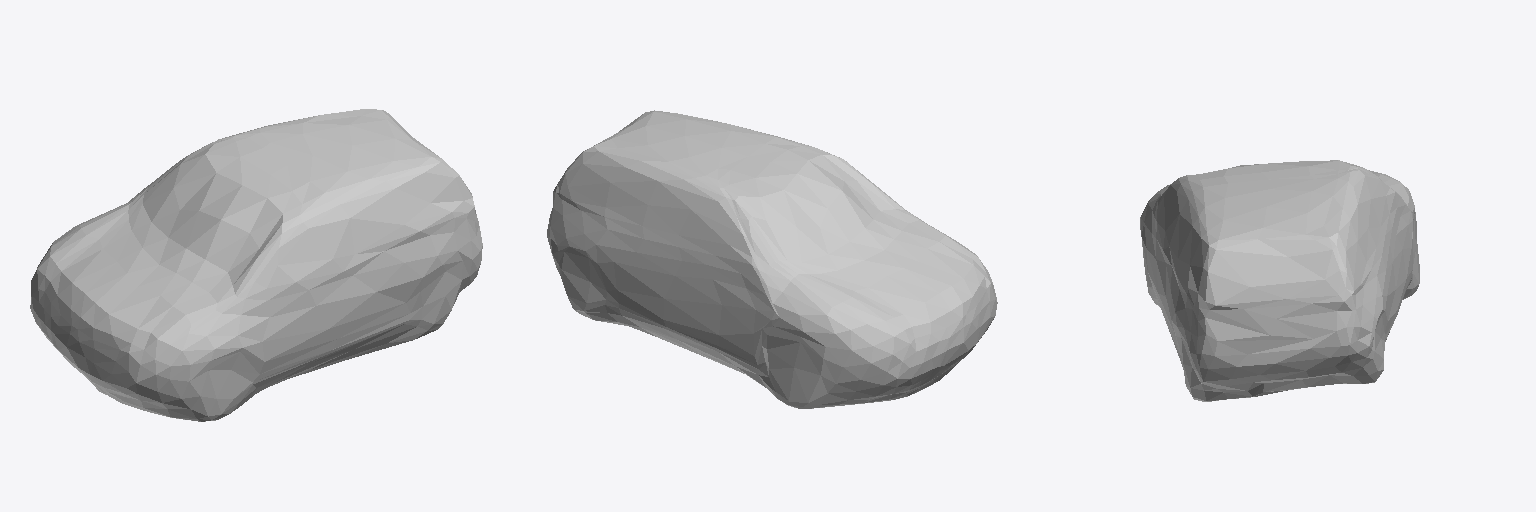
File: video3_368.obj
The picture shows the model from 3 angles: view 1: azimuth 30°, elevation 25°; view 2: azimuth 150°, elevation 25°; view 3: azimuth 270°, elevation 25°; orthographic projection.
Bounding box in the file's own units: 1 × 0.4748 × 0.631.